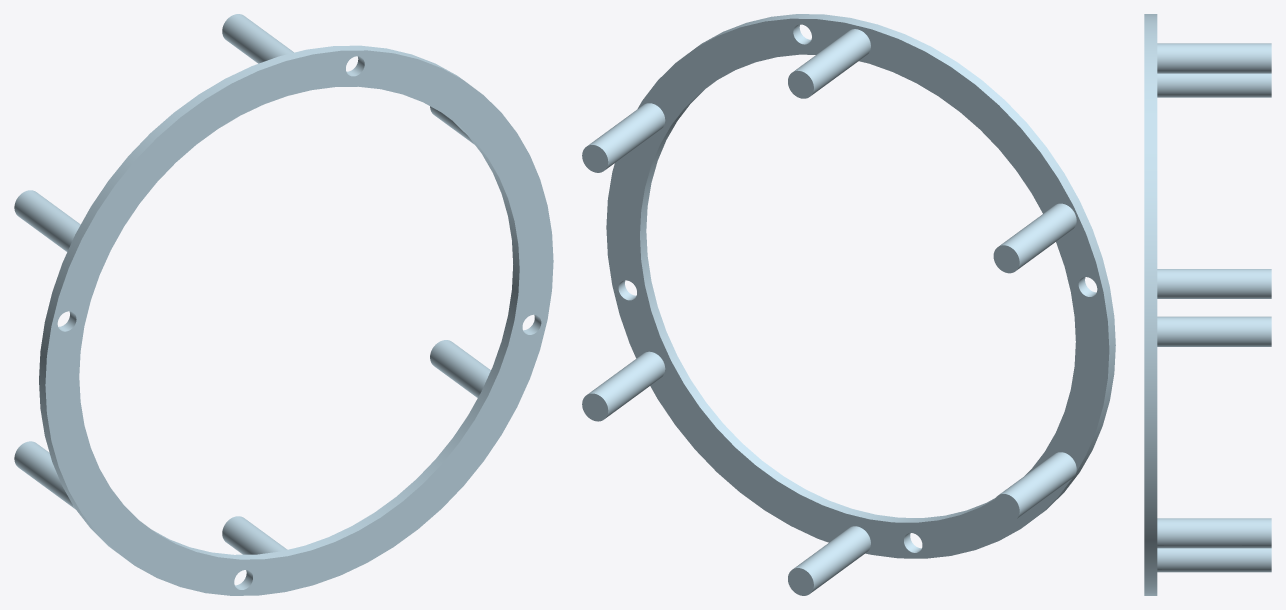
3 views of the same model, side by side, from view 1: azimuth 30°, elevation 25°; view 2: azimuth 150°, elevation 25°; view 3: azimuth 270°, elevation 25° (orthographic).
Parts seen in each view (by area): view 1: mesh4, mesh16, mesh3, mesh9, mesh13, mesh11, mesh21, mesh19; view 2: mesh2, mesh16, mesh3, mesh9, mesh21, mesh13, mesh19, mesh1, mesh11; view 3: mesh16, mesh11, mesh13, mesh21, mesh1, mesh9, mesh19.
Boxes of the visible parts, bbox=[...] form: mesh4: bbox=[45, 50, 553, 595]; mesh16: bbox=[39, 45, 462, 552]; mesh3: bbox=[152, 121, 519, 559]; mesh9: bbox=[14, 190, 80, 251]; mesh13: bbox=[430, 340, 490, 397]; mesh11: bbox=[222, 14, 293, 63]; mesh21: bbox=[14, 441, 74, 508]; mesh19: bbox=[222, 516, 287, 554]; mesh2: bbox=[606, 18, 1109, 558]; mesh16: bbox=[696, 14, 1115, 513]; mesh3: bbox=[640, 84, 995, 522]; mesh9: bbox=[1000, 203, 1076, 269]; mesh21: bbox=[999, 452, 1076, 518]; mesh13: bbox=[588, 351, 665, 418]; mesh19: bbox=[794, 526, 870, 592]; mesh1: bbox=[588, 103, 665, 169]; mesh11: bbox=[794, 29, 870, 95]; mesh16: bbox=[1144, 14, 1157, 595]; mesh11: bbox=[1157, 43, 1271, 73]; mesh13: bbox=[1157, 518, 1271, 548]; mesh21: bbox=[1157, 316, 1271, 346]; mesh1: bbox=[1157, 269, 1271, 298]; mesh9: bbox=[1157, 73, 1271, 97]; mesh19: bbox=[1157, 548, 1271, 572].
Bounding box in the file's own units: 0.135 × 0.1354 × 0.0295.
